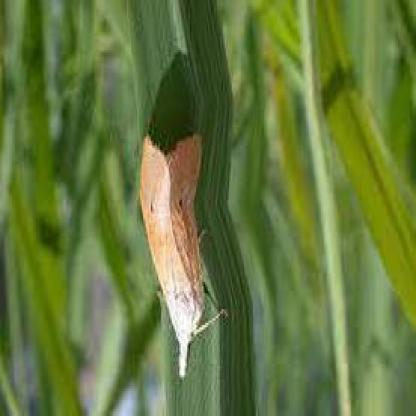stem-borer: (139, 131, 229, 382)
